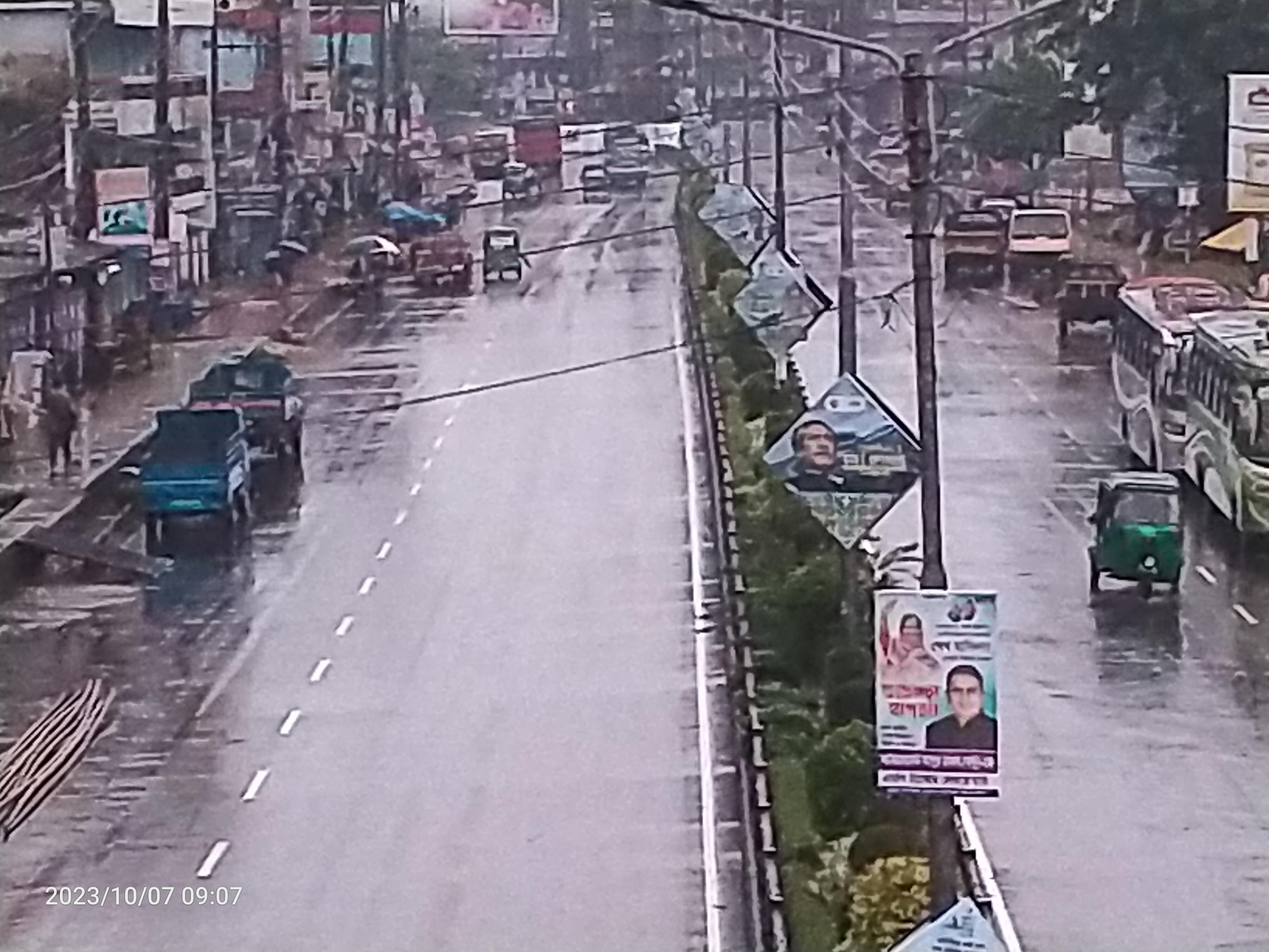Bus: (1100, 248, 1230, 503), (1178, 290, 1269, 560)
Truck: (175, 334, 314, 491), (127, 387, 255, 551), (928, 188, 1015, 314), (990, 184, 1085, 299)
